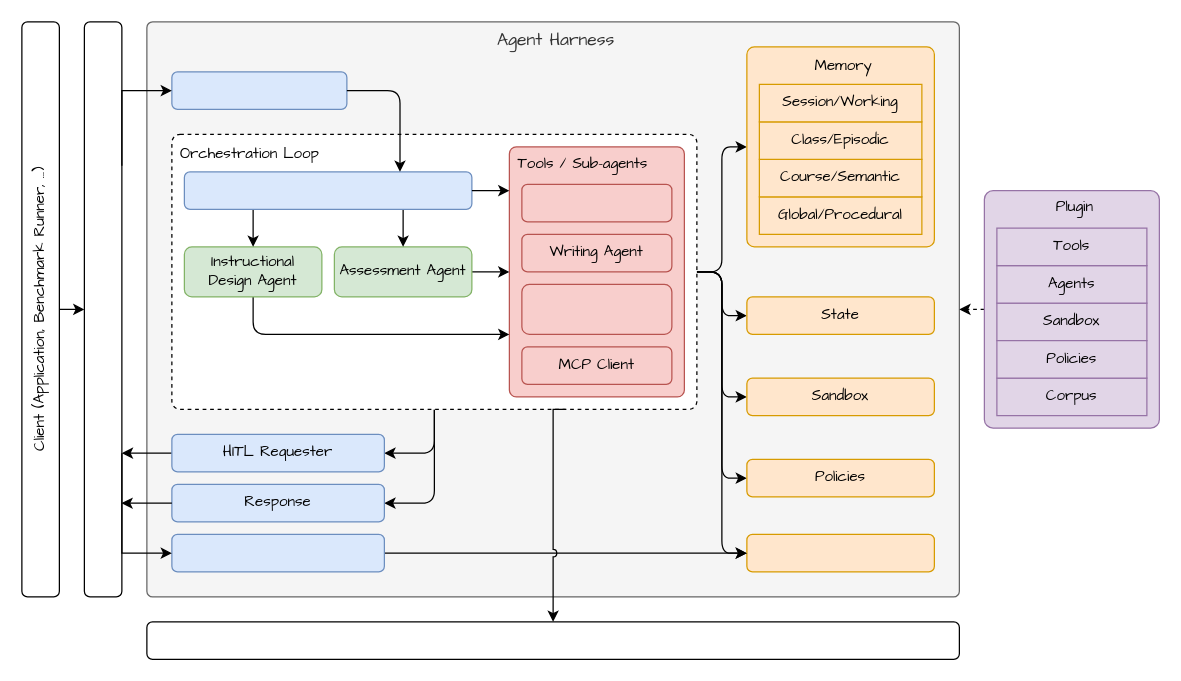
Some shapes in this 1181 by 681 pixel diagram are drawn without their labels. The centre of each missing label's shape, as x and y in pixels:
"Context Mgmt Agent" goes at (596,308).
"Corpus Indexer" goes at (277,552).
"Indexed Corpus" goes at (840,552).
"LLM Runtime" goes at (552,640).
"Query Analyzer" goes at (259,90).
"ReAct / Plan-and-Execute" goes at (327,190).
"Retrieval Agent" goes at (596,202).
"Transport" goes at (102,309).
